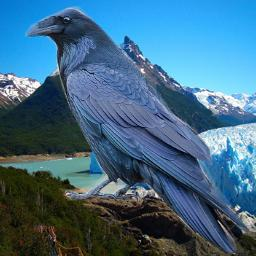Crow: (23, 6, 251, 253)
